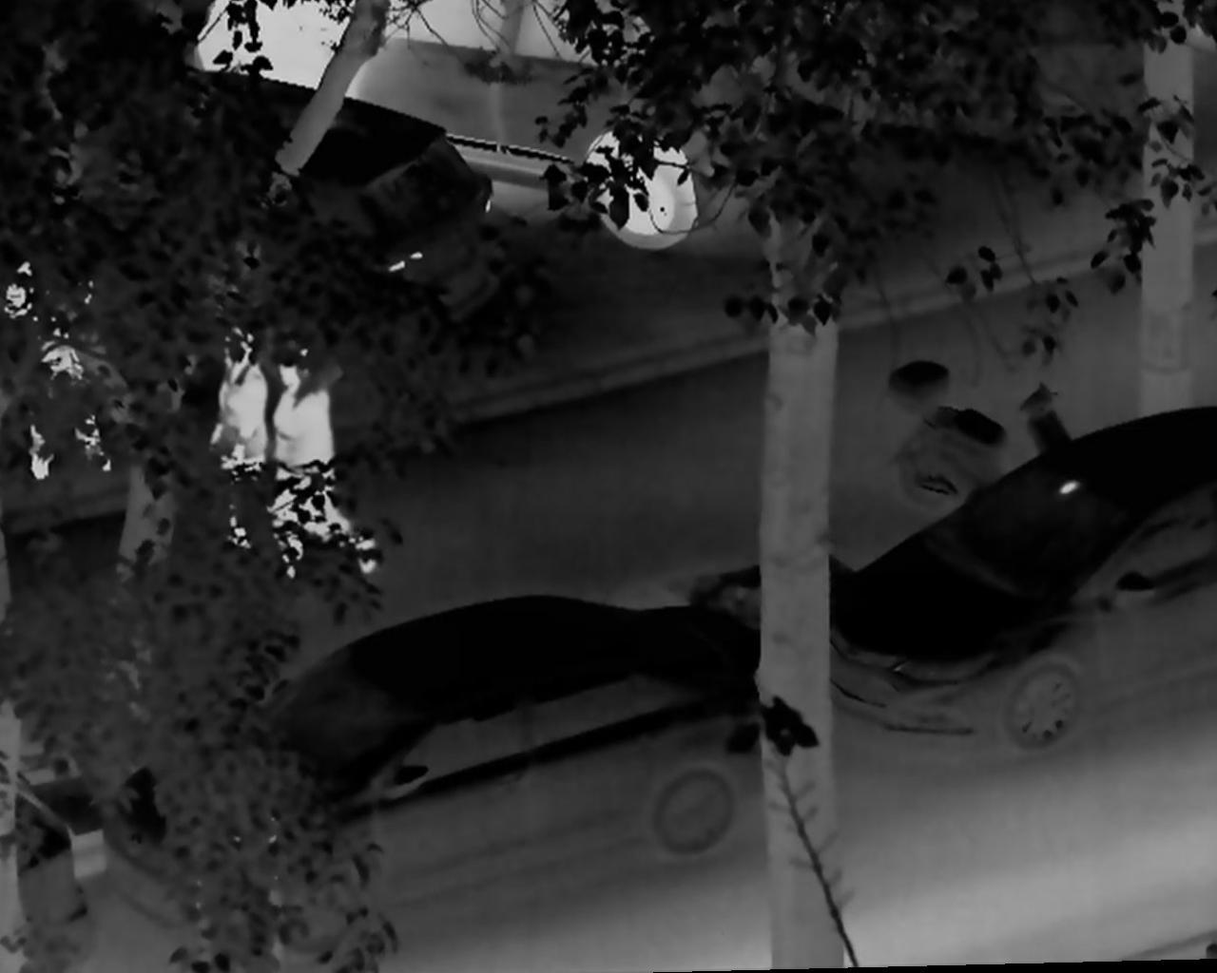person: (4, 219, 120, 486), (268, 345, 377, 584), (205, 324, 270, 556)
